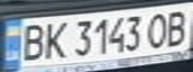1: (90, 15, 112, 55)
3: (124, 11, 148, 52), (69, 17, 93, 57)
4: (109, 14, 130, 53)
B: (15, 20, 48, 62), (160, 7, 193, 47)
K: (39, 19, 69, 61)
O: (145, 9, 172, 50)
